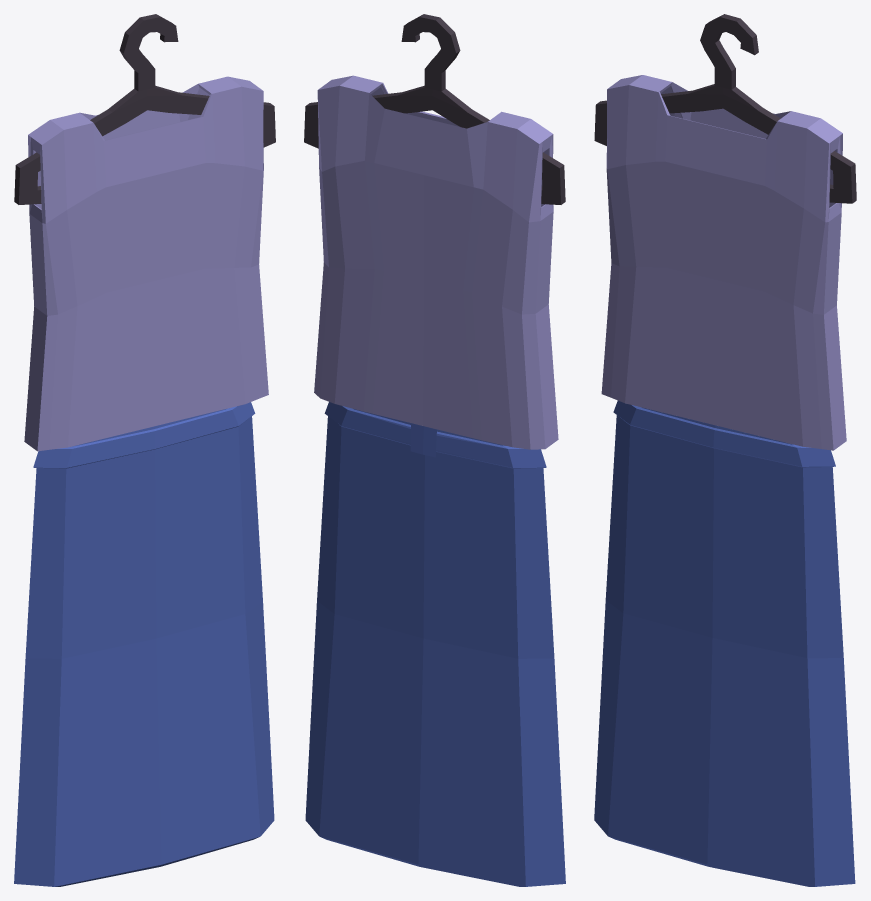
File: clothes_2.fbx
3 views of the same model, side by side, from view 1: azimuth 30°, elevation 25°; view 2: azimuth 150°, elevation 25°; view 3: azimuth 330°, elevation 25° (orthographic).
Parts seen in each view (by area): view 1: pant2, shirt2, hanger2; view 2: pant2, shirt2, hanger2; view 3: pant2, shirt2, hanger2.
Part boxes in pixels (bbox=[...]): pant2: bbox=[14, 402, 274, 886]; shirt2: bbox=[24, 76, 268, 451]; hanger2: bbox=[14, 14, 275, 204]; pant2: bbox=[305, 402, 565, 886]; shirt2: bbox=[314, 75, 558, 449]; hanger2: bbox=[304, 14, 565, 204]; pant2: bbox=[594, 400, 855, 886]; shirt2: bbox=[601, 75, 846, 450]; hanger2: bbox=[594, 14, 856, 203].
Size of the model in its own units: 36.62 by 8.4 by 112.
